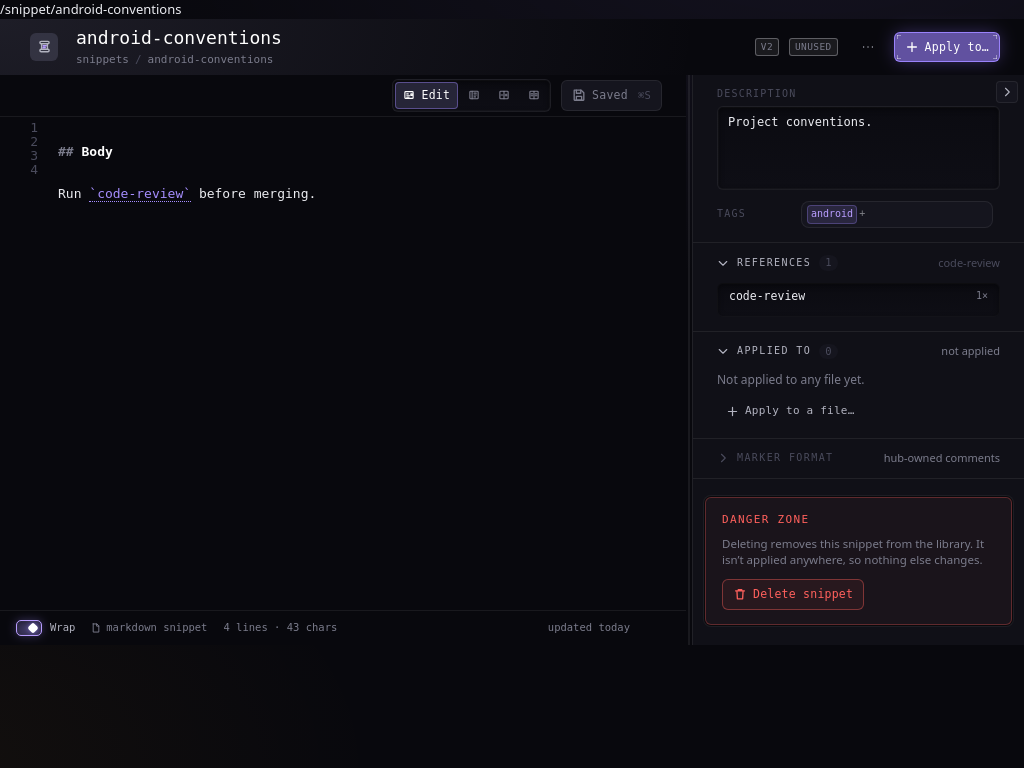
it: SnippetEditor — references (edit mode) › (F3) a dirty description buffer does not block the delete navigation
Replace the text in the text box with placeholder "One line — what this snippet instructs" below "description" with "Edited before delete." at (858, 148), box [717,106,1000,190]
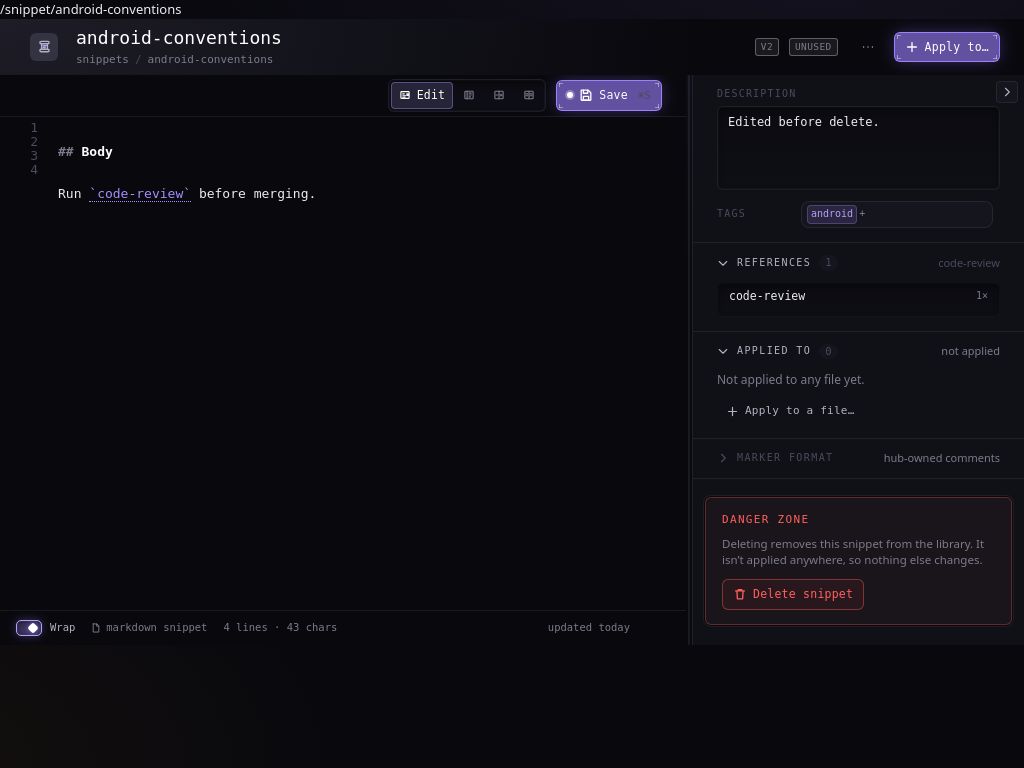
Click the button "Delete snippet" at (793, 594), box [722,579,864,610]
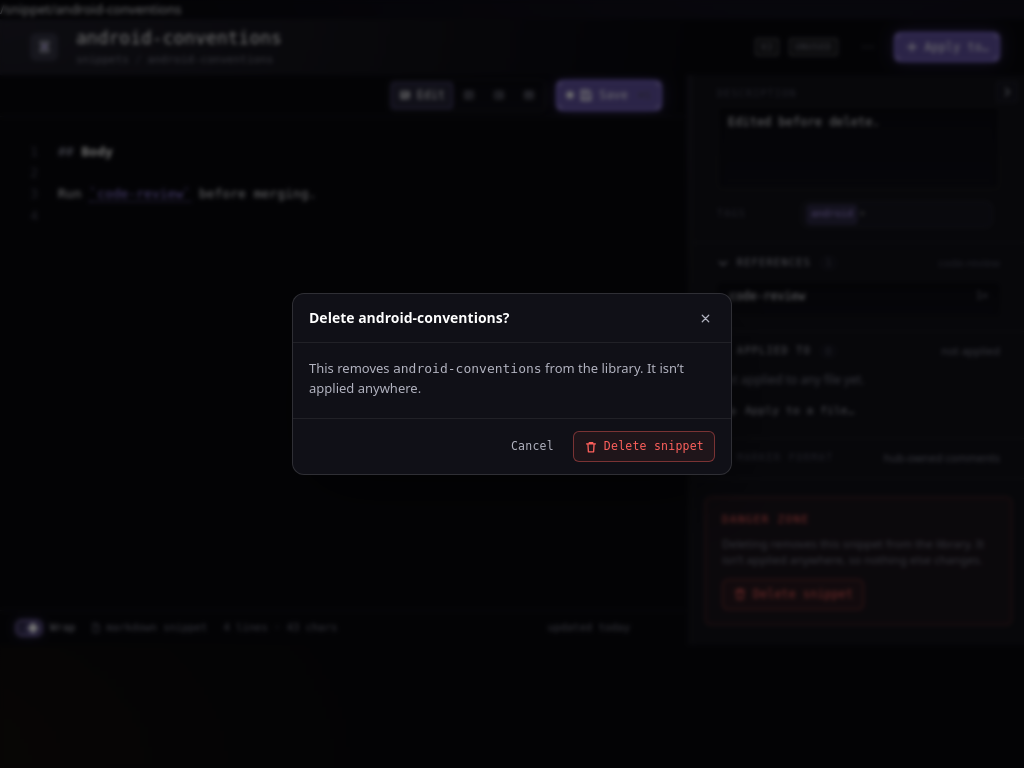
Click the button "Delete snippet" at (644, 447), box [573,431,715,462]
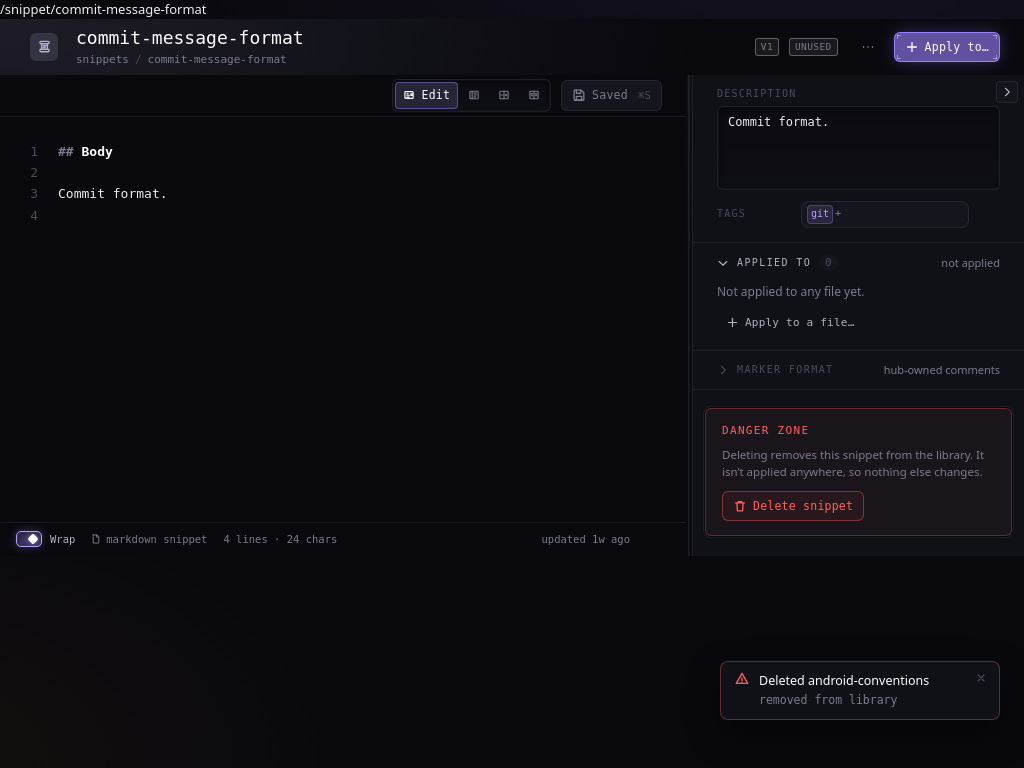
Expected: the text with test id "loc" reads "/snippet/commit-message-format", [0,0,206,18]
